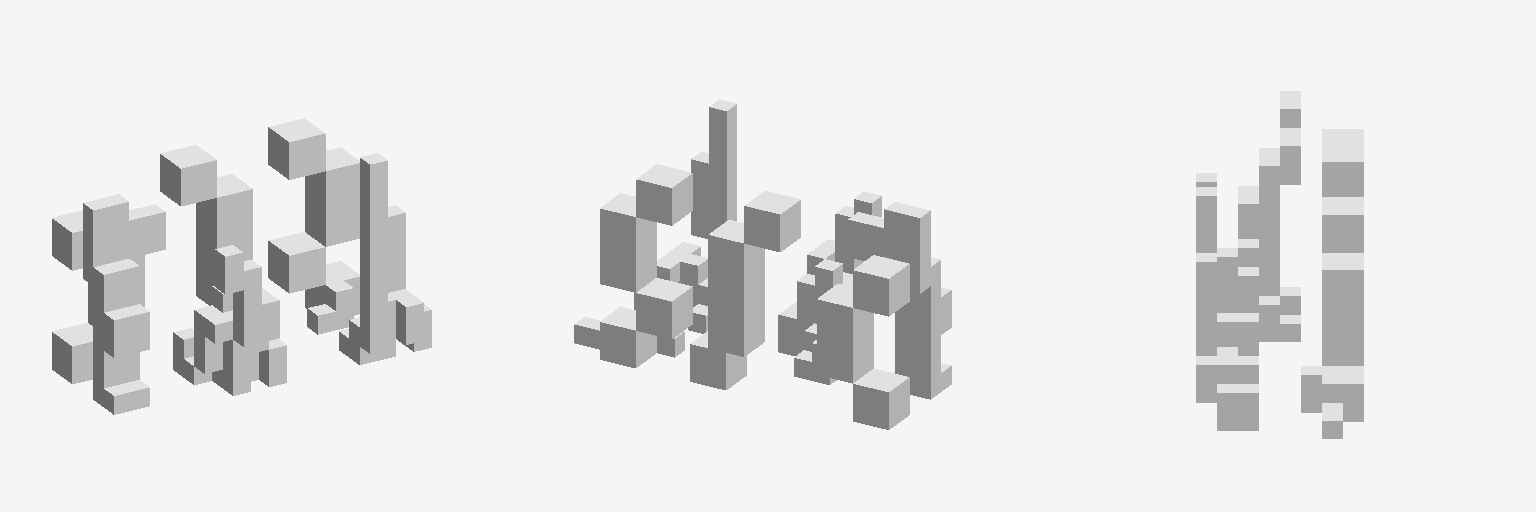
Rendered from Algas1.obj.
3 views of the same model, side by side, from view 1: azimuth 30°, elevation 25°; view 2: azimuth 150°, elevation 25°; view 3: azimuth 270°, elevation 25° (orthographic).
Visible parts, largest first — view 1: object 1; view 2: object 1; view 3: object 1.
Part boxes in pixels (x1,y1,x2,y2): object 1: (52, 118, 431, 414); object 1: (574, 99, 951, 429); object 1: (1196, 91, 1363, 438).
Bounding box in the file's own units: 1.8 × 1.1 × 0.8.